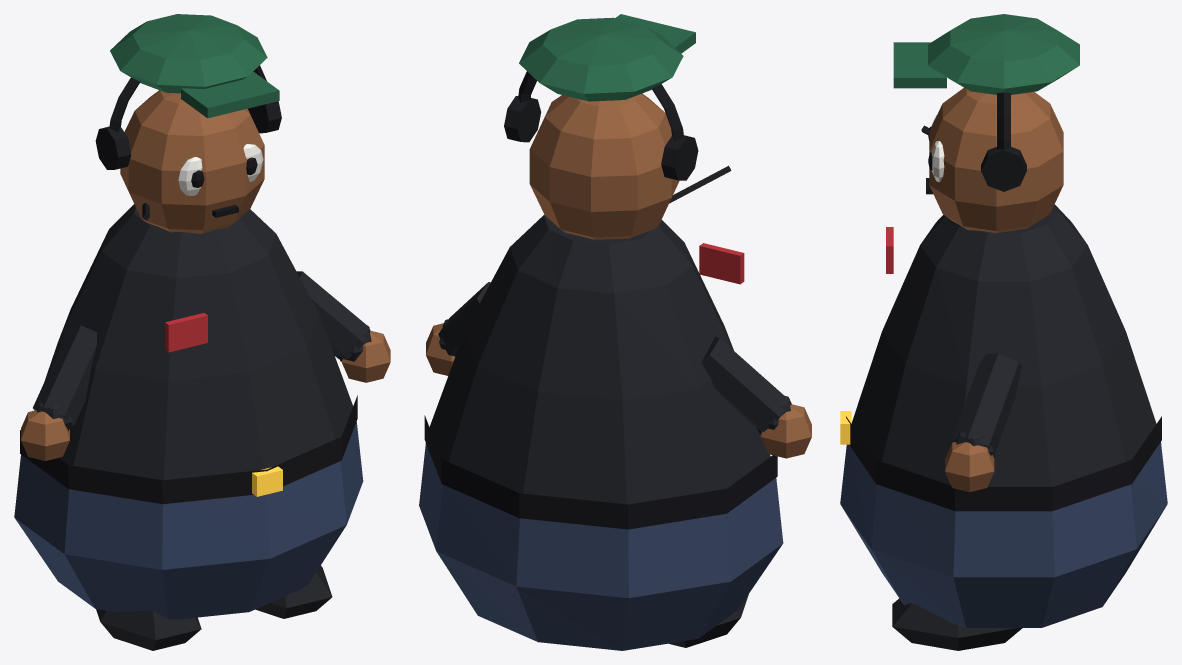
Rendered from npc_tecnico_b.glb.
3 renders of one model, left to right at view 1: azimuth 30°, elevation 25°; view 2: azimuth 150°, elevation 25°; view 3: azimuth 270°, elevation 25°, orthographic. The views are drawn at different scales.
Parts seen in each view (by area): view 1: body_tech_polo, body_tech_jeans, head_skin_cacao, head_tech_cap, body_black, arms_tech_polo, legs_tech_shoes, arms_skin_cacao, head_headset, props_tv_red, face_white, body_gold (+1 smaller); view 2: body_tech_polo, body_tech_jeans, head_skin_cacao, head_tech_cap, body_black, arms_tech_polo, head_headset, arms_skin_cacao, props_tv_red, legs_tech_shoes; view 3: body_tech_polo, body_tech_jeans, head_skin_cacao, head_tech_cap, body_black, arms_tech_polo, legs_tech_shoes, head_headset, arms_skin_cacao.
Part boxes in pixels (x1,y1,x2,y2): body_tech_polo: [45, 204, 353, 480]; body_tech_jeans: [14, 422, 363, 619]; head_skin_cacao: [120, 90, 264, 233]; head_tech_cap: [110, 14, 279, 118]; body_black: [20, 395, 357, 504]; arms_tech_polo: [33, 271, 371, 430]; legs_tech_shoes: [96, 565, 332, 650]; arms_skin_cacao: [21, 331, 390, 460]; head_headset: [95, 65, 281, 220]; props_tv_red: [165, 313, 207, 352]; face_white: [178, 144, 263, 195]; body_gold: [252, 466, 282, 496]; body_tech_polo: [429, 214, 770, 504]; body_tech_jeans: [419, 443, 783, 650]; head_skin_cacao: [529, 93, 679, 239]; head_tech_cap: [519, 14, 695, 101]; body_black: [424, 415, 777, 529]; arms_tech_polo: [438, 282, 791, 434]; head_headset: [504, 71, 731, 203]; arms_skin_cacao: [426, 323, 811, 458]; props_tv_red: [699, 243, 744, 284]; legs_tech_shoes: [669, 594, 748, 647]; body_tech_polo: [851, 204, 1156, 486]; body_tech_jeans: [840, 442, 1167, 627]; head_skin_cacao: [929, 87, 1063, 233]; head_tech_cap: [893, 14, 1079, 94]; body_black: [846, 416, 1161, 511]; arms_tech_polo: [952, 353, 1021, 455]; legs_tech_shoes: [892, 598, 1022, 650]; head_headset: [921, 92, 1026, 191]; arms_skin_cacao: [945, 442, 994, 492].
Bounding box in the file's own units: 1.13 × 1.68 × 0.86.
